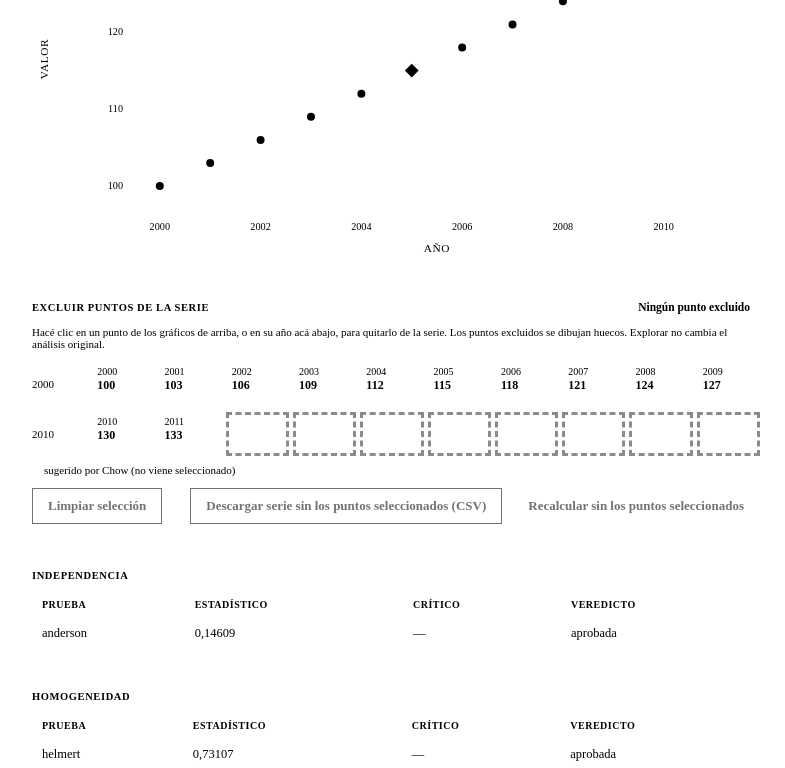
Test: ResultsPage — what-if de atípicos › eventos de diseño sin los puntos excluidos › si sin esos puntos no hay Etapa 2, lo dice y deja los eventos originales
(page scrolled)
Click the button "2005 115". click: (459, 384)
box: [428, 362, 491, 406]
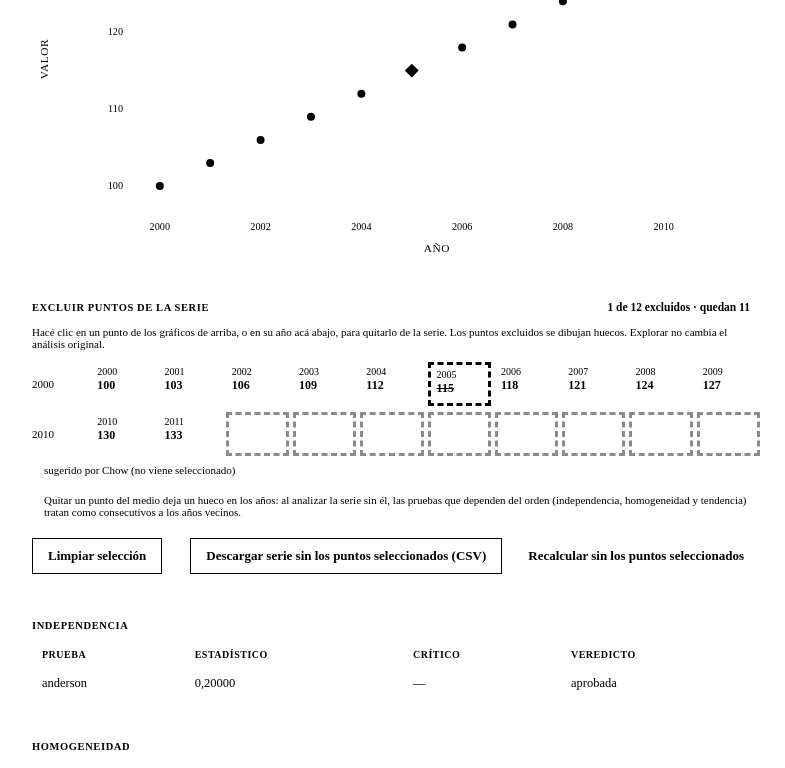
Click the button "Recalcular sin los puntos seleccionados". click: (636, 556)
box: [512, 538, 760, 574]
(page scrolled)
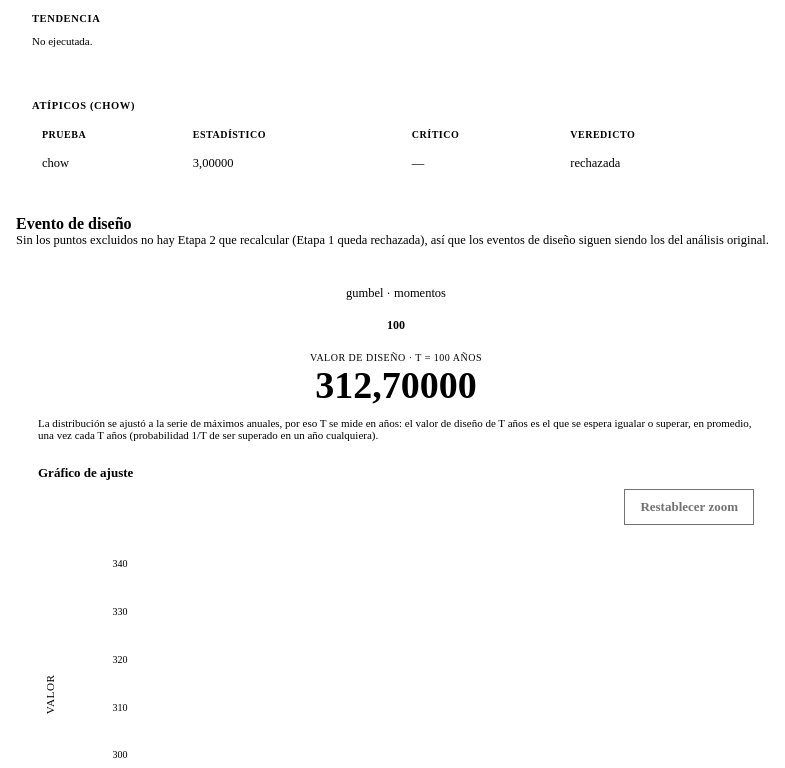
expect the text "no hay Etapa 2 que recalcular" is shown: met, box [16, 232, 769, 246]
